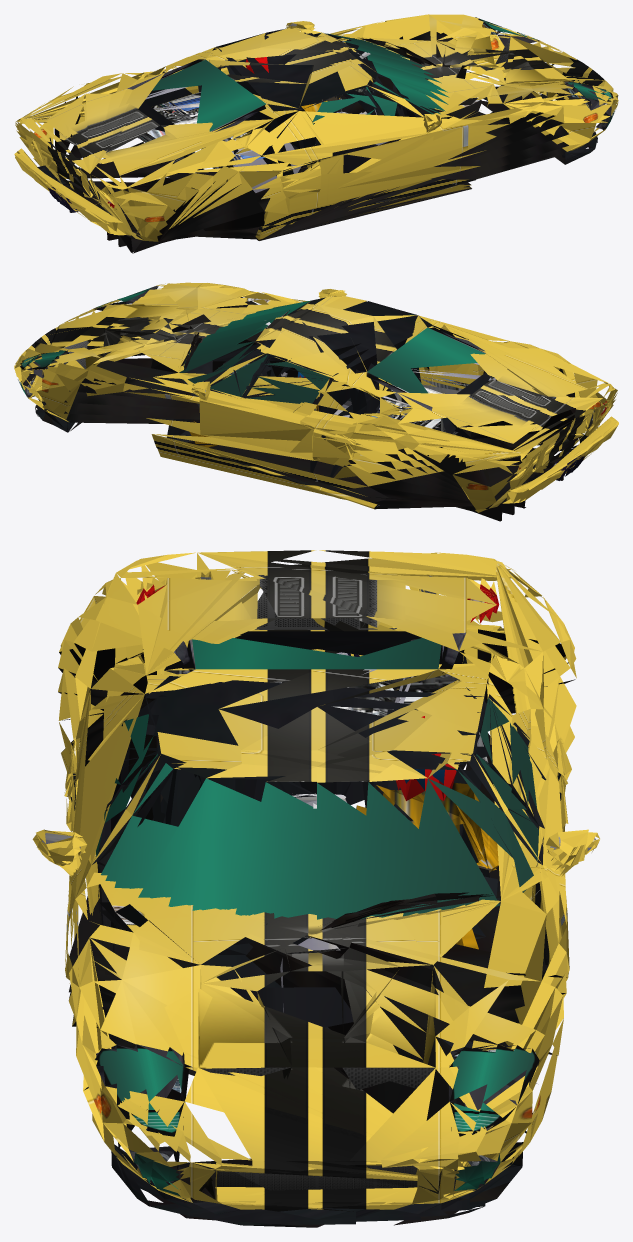
File: sports.glb
3 views of the same model, one above another, from view 1: azimuth 30°, elevation 25°; view 2: azimuth 150°, elevation 25°; view 3: azimuth 270°, elevation 25° (orthographic). The views are drawn at different scales.
Visible parts, largest first — view 1: car; view 2: car; view 3: car.
Part boxes in pixels (x1,y1,x2,y2): car: (14,14,618,253); car: (14,282,618,521); car: (32,550,599,1227).
Bounding box in the file's own units: 4.65 × 1 × 2.13.
1 material, 1 textured.
